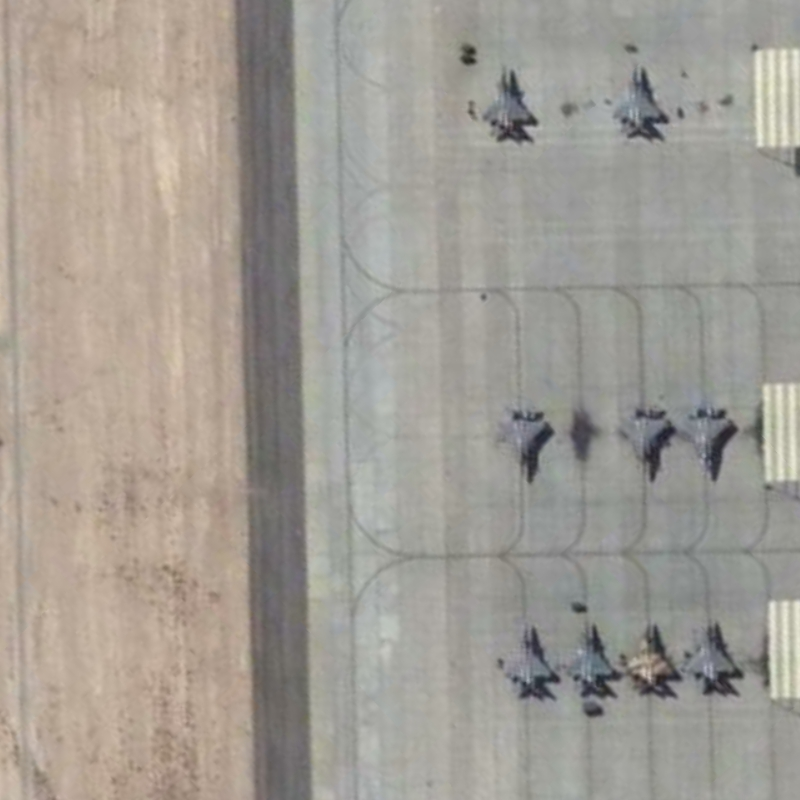A13: (613, 398, 677, 489), (495, 619, 559, 707), (609, 62, 675, 147), (488, 400, 554, 485), (682, 397, 741, 489), (682, 616, 746, 700), (621, 616, 680, 706), (481, 61, 543, 146), (561, 612, 618, 700)
